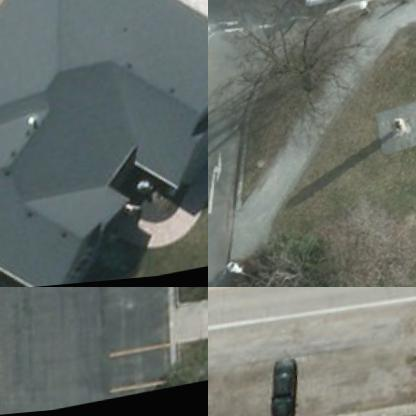car: (268, 358, 310, 415), (305, 0, 361, 13)
